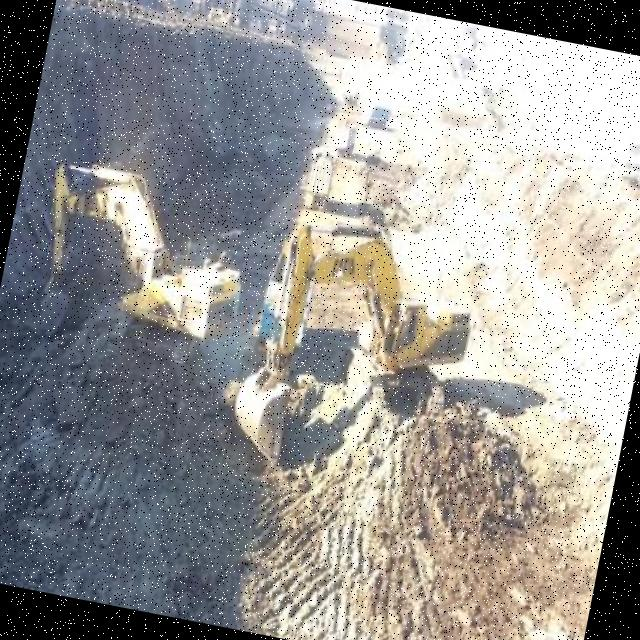Dump Truck: (296, 144, 338, 208), (330, 124, 360, 148), (368, 106, 390, 130)
Excavator: (220, 219, 486, 502), (18, 150, 260, 377)
